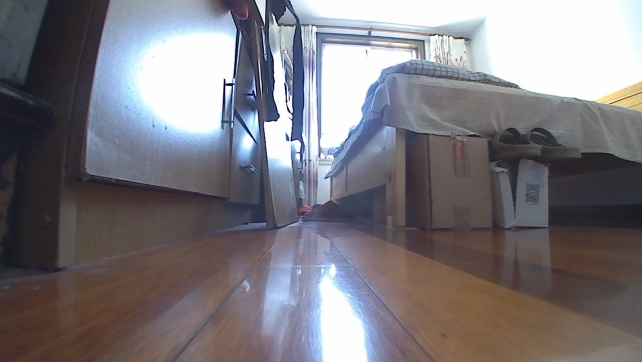bed: (323, 56, 641, 231)
shoe: (300, 199, 354, 224)
slipper: (488, 125, 584, 161)
